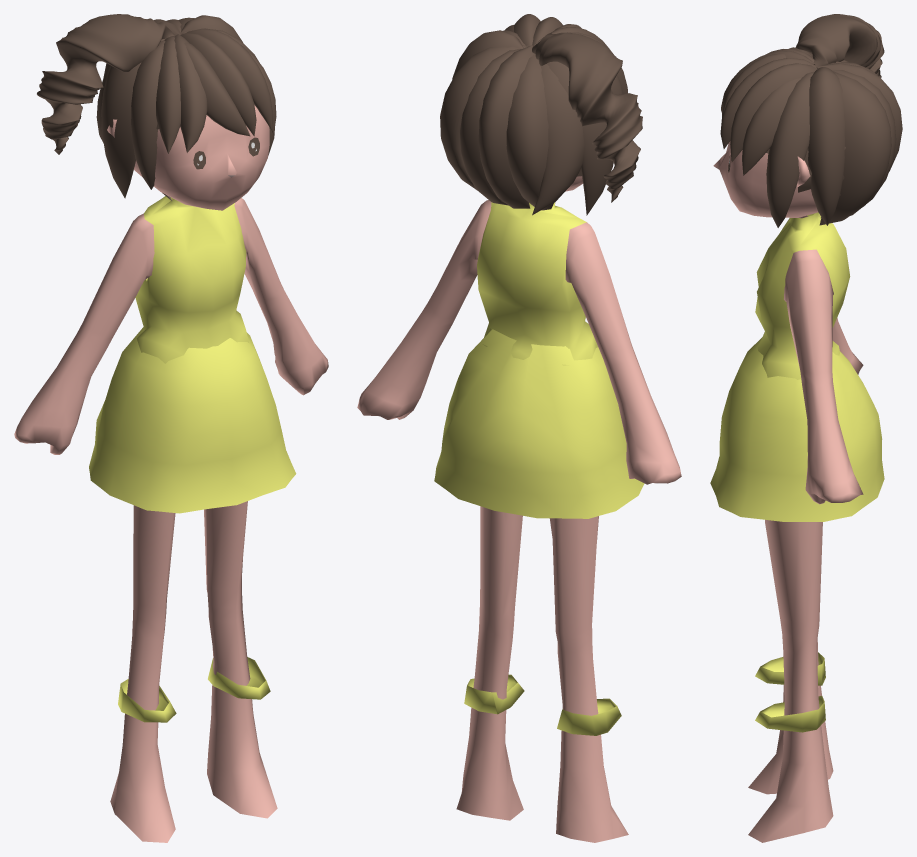
File: girl08_1.fbx
3 renders of one model, left to right at view 1: azimuth 30°, elevation 25°; view 2: azimuth 150°, elevation 25°; view 3: azimuth 270°, elevation 25°, orthographic. The views are drawn at different scales.
Visible parts, largest first — view 1: karada.002, asi, ude, karada.001, NurbsPath.016, atama, NurbsPath.015, NurbsPath.008, karada.003, NurbsPath.003, NurbsPath.002, NurbsPath.005 (+3 smaller); view 2: karada.002, asi, ude, karada.001, NurbsPath.016, NurbsPath.013, NurbsPath.012, NurbsPath.014, NurbsPath.010, karada.003, NurbsPath.011, NurbsPath.015 (+1 smaller); view 3: karada.002, asi, ude, karada.001, NurbsPath.010, NurbsPath.009, NurbsPath.007, NurbsPath.016, atama, karada.003, NurbsPath.006, NurbsPath.004 (+5 smaller).
Part boxes in pixels (<box>): karada.002: <box>89,327,296,513</box>; asi: <box>110,501,277,842</box>; ude: <box>14,198,328,454</box>; karada.001: <box>135,196,248,363</box>; NurbsPath.016: <box>37,14,175,154</box>; atama: <box>107,105,269,210</box>; NurbsPath.015: <box>101,38,165,198</box>; NurbsPath.008: <box>131,40,165,189</box>; karada.003: <box>118,657,270,722</box>; NurbsPath.003: <box>174,34,207,152</box>; NurbsPath.002: <box>180,33,256,136</box>; NurbsPath.005: <box>156,36,180,153</box>; karada.002: <box>434,329,644,518</box>; asi: <box>456,506,628,842</box>; ude: <box>357,200,681,484</box>; karada.001: <box>477,202,597,365</box>; NurbsPath.016: <box>532,32,642,202</box>; NurbsPath.013: <box>506,53,553,210</box>; NurbsPath.012: <box>478,45,534,208</box>; NurbsPath.014: <box>532,59,584,215</box>; NurbsPath.010: <box>440,45,526,189</box>; karada.003: <box>464,674,621,735</box>; NurbsPath.011: <box>460,49,521,205</box>; NurbsPath.015: <box>547,61,613,215</box>; karada.002: <box>710,337,884,521</box>; asi: <box>748,520,833,842</box>; ude: <box>784,215,863,504</box>; karada.001: <box>755,212,850,379</box>; NurbsPath.010: <box>819,71,891,225</box>; NurbsPath.009: <box>808,67,844,225</box>; NurbsPath.007: <box>766,71,814,227</box>; NurbsPath.016: <box>795,14,884,77</box>; atama: <box>713,141,817,217</box>; karada.003: <box>755,652,825,732</box>; NurbsPath.006: <box>742,69,817,175</box>; NurbsPath.004: <box>730,63,816,162</box>.
Size of the model in its own units: 60.49 by 148 by 33.71.
